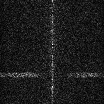wifi: (1, 73, 104, 77)
